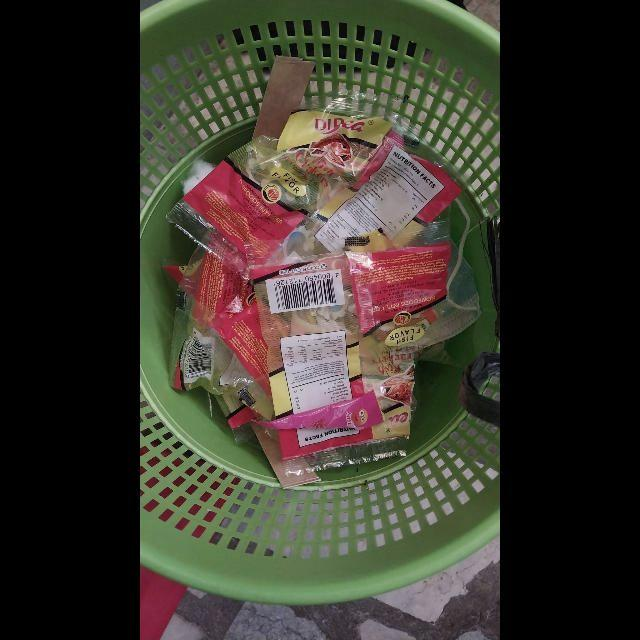food_wrapper: (245, 221, 452, 472), (166, 111, 462, 278), (169, 246, 256, 395), (197, 303, 275, 417), (251, 391, 384, 430), (214, 393, 256, 445)
paper: (252, 55, 316, 140), (250, 422, 321, 489)
